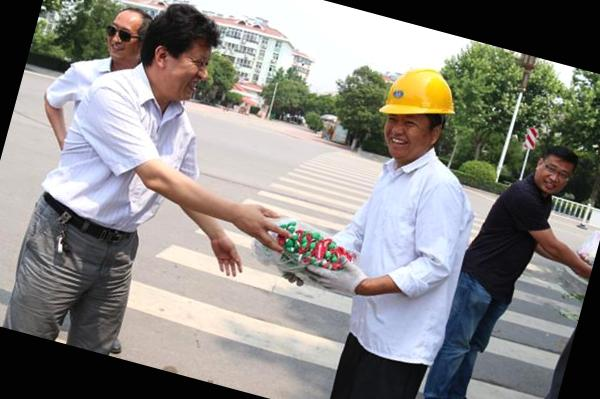helmet: (371, 56, 476, 138)
no_vest: (32, 50, 211, 284), (329, 150, 488, 374), (462, 176, 560, 318)
person: (11, 0, 243, 365), (289, 54, 513, 399), (420, 121, 593, 399)
